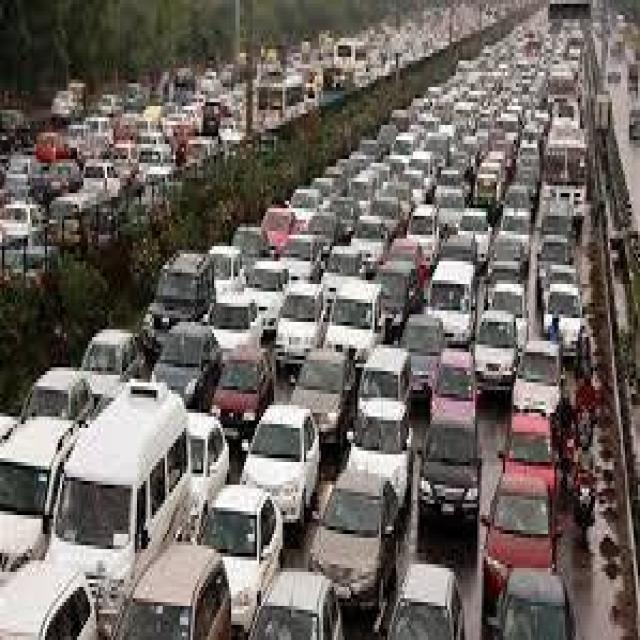ambulance: (47, 362, 195, 605)
